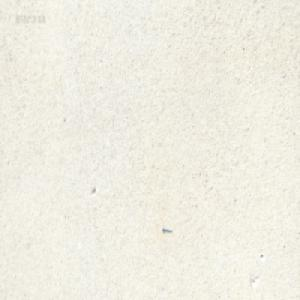Nail: (162, 225, 172, 233)
